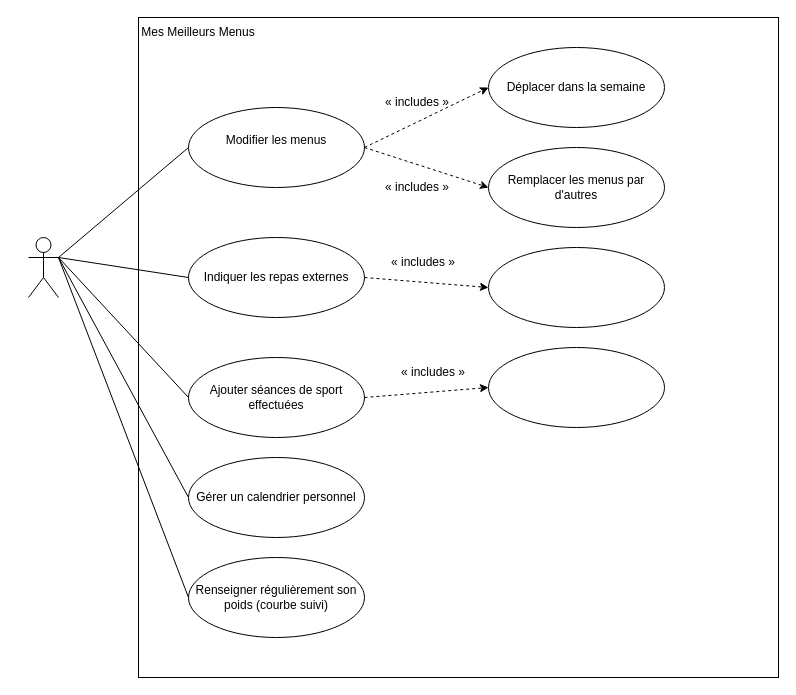
This 796x695 diagram has some shape labels left out. Each missing label, with the box of its shape:
Estimations des apports caloriques: (488, 246, 664, 328)
Séances réalisées ou prévues: (488, 346, 664, 428)
Utilisateur: (28, 236, 58, 298)
